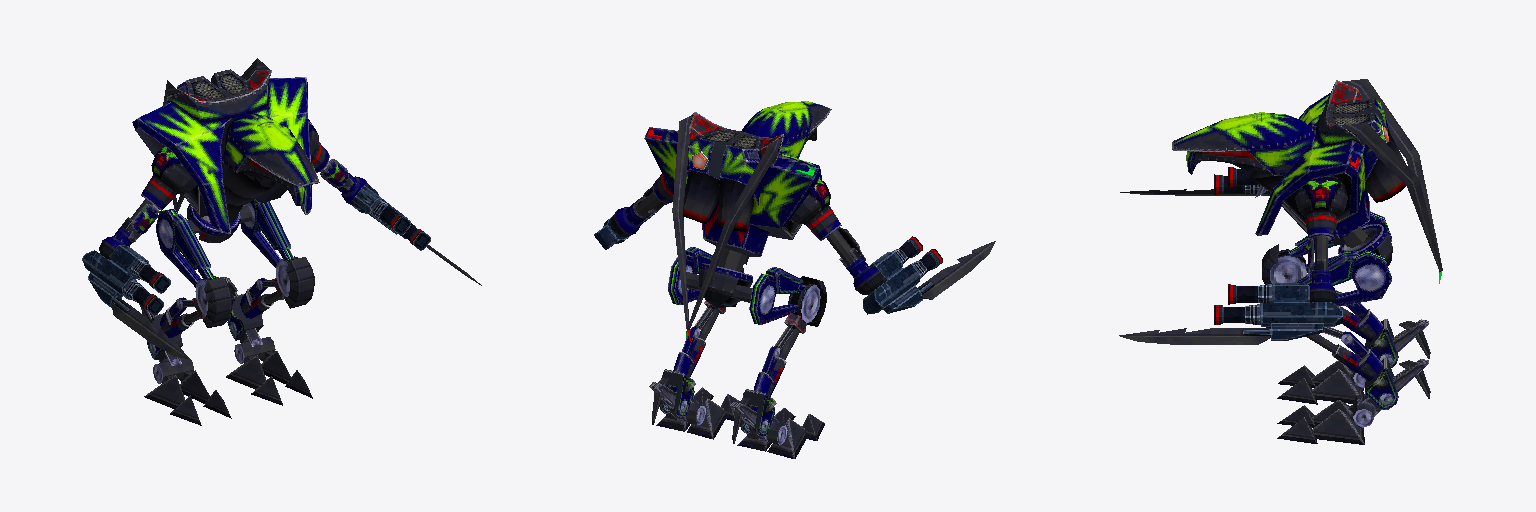
The picture shows the model from 3 angles: view 1: azimuth 30°, elevation 25°; view 2: azimuth 150°, elevation 25°; view 3: azimuth 270°, elevation 25°; orthographic projection.
Parts seen in each view (by area): view 1: Trooper_Mesh_0002.002; view 2: Trooper_Mesh_0002.002; view 3: Trooper_Mesh_0002.002.
Part boxes in pixels (x1,y1,x2,y2): Trooper_Mesh_0002.002: (82, 58, 481, 425); Trooper_Mesh_0002.002: (594, 101, 995, 458); Trooper_Mesh_0002.002: (1119, 79, 1442, 444).
Bounding box in the file's own units: 6.15 × 5.96 × 5.66.
3 materials, 3 textured.